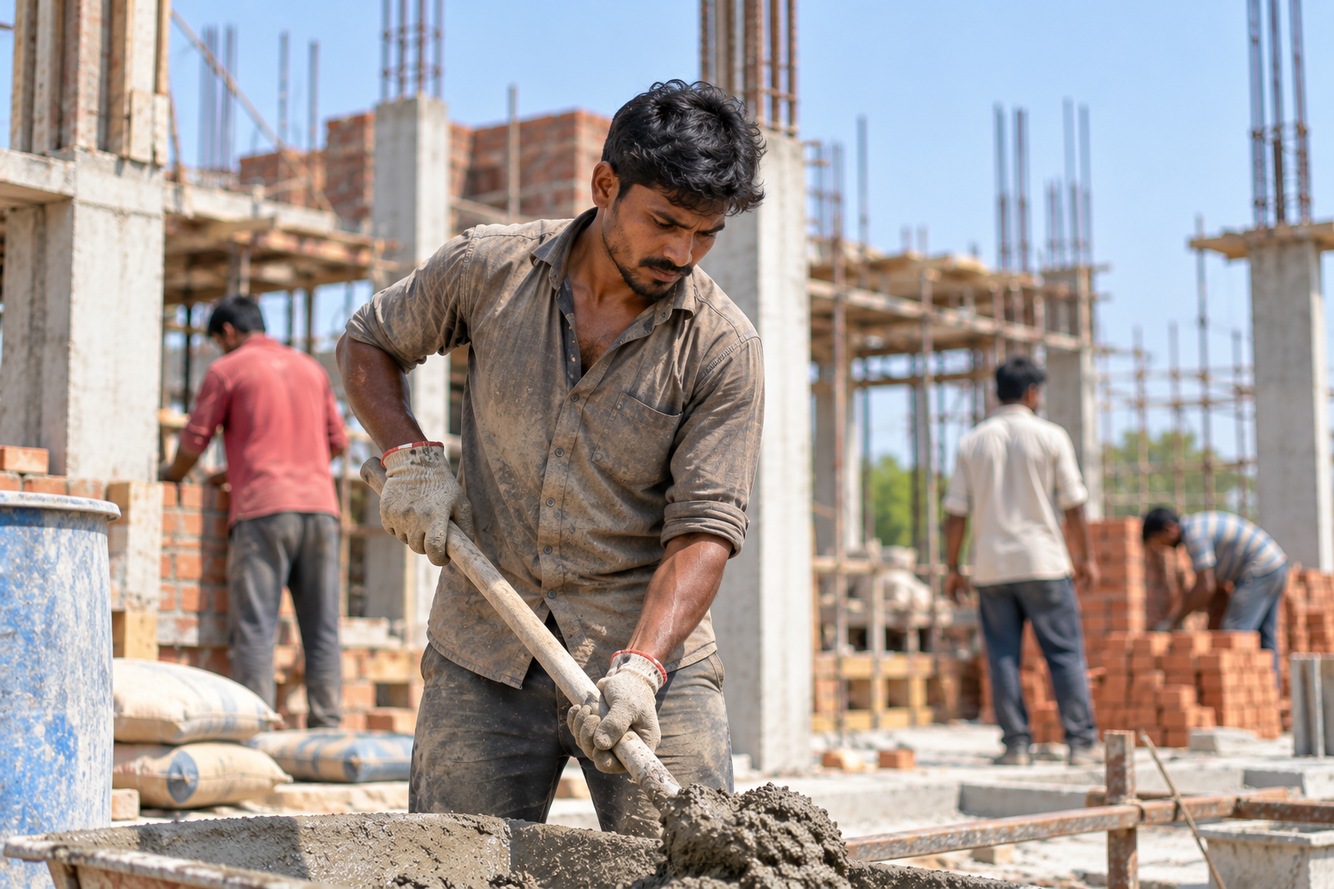no_hardhat: (598, 83, 753, 207), (987, 349, 1057, 395), (196, 287, 268, 331), (1129, 490, 1163, 558)
no_safety_vest: (430, 245, 716, 708), (206, 355, 354, 514), (959, 425, 1079, 580), (1189, 494, 1283, 576)
person: (346, 73, 773, 822), (162, 285, 368, 738), (925, 325, 1113, 778), (1131, 465, 1293, 704)
